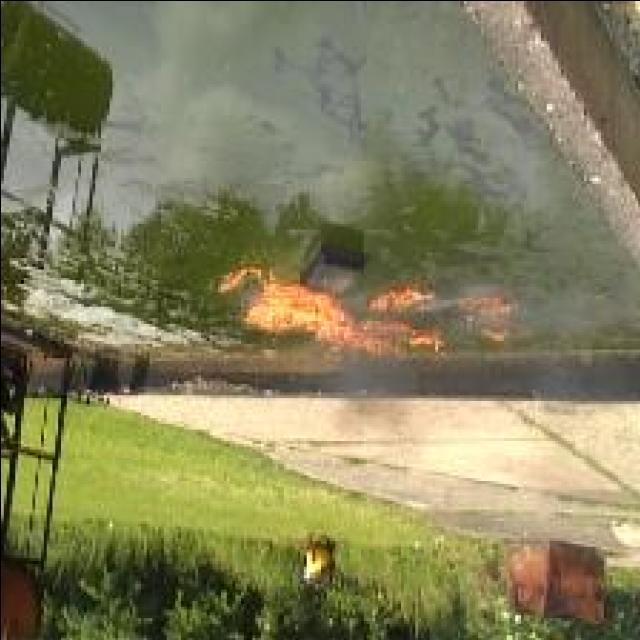Fire: (218, 264, 446, 352)
